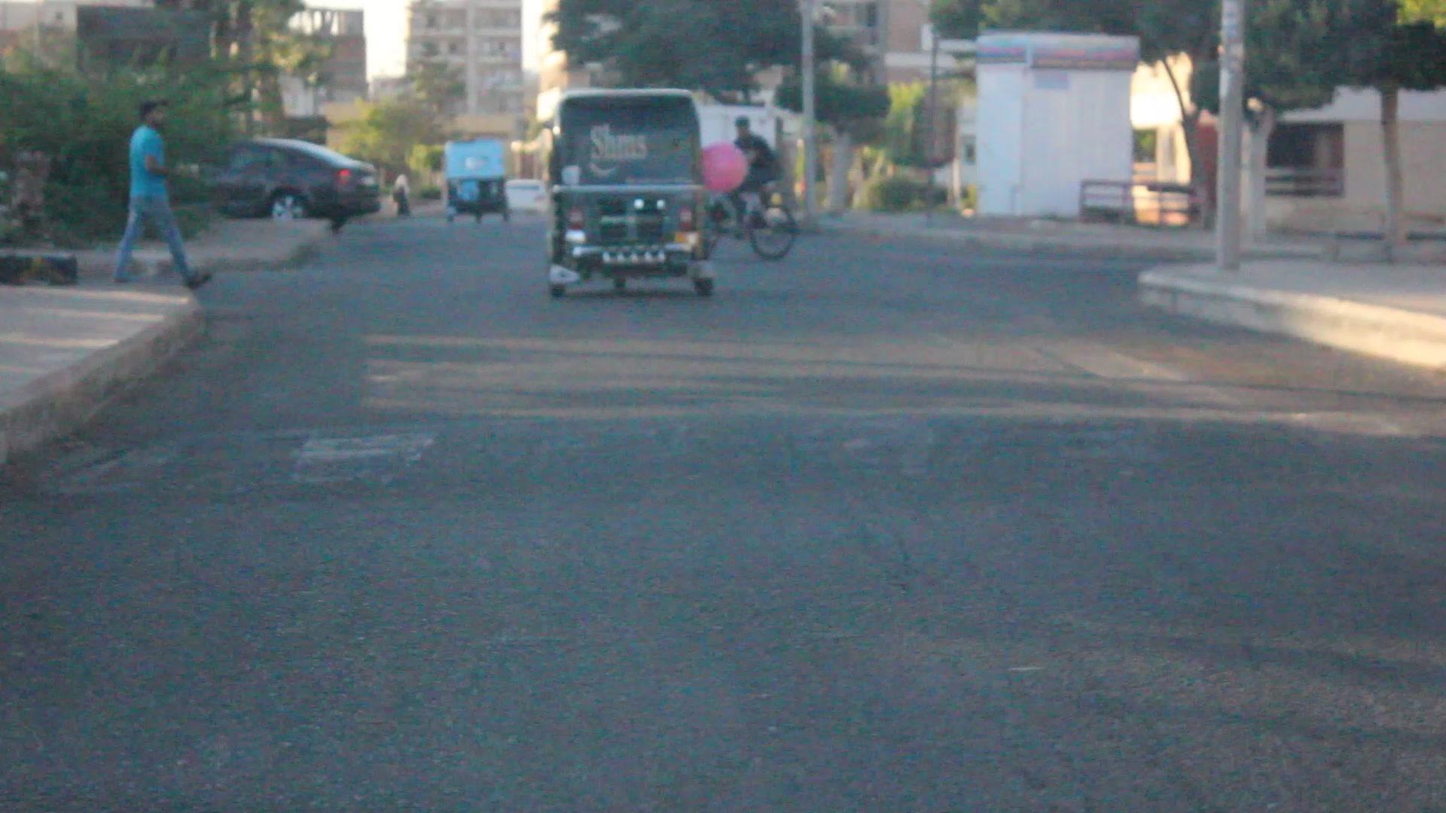Bump: (119, 393, 1446, 508)
